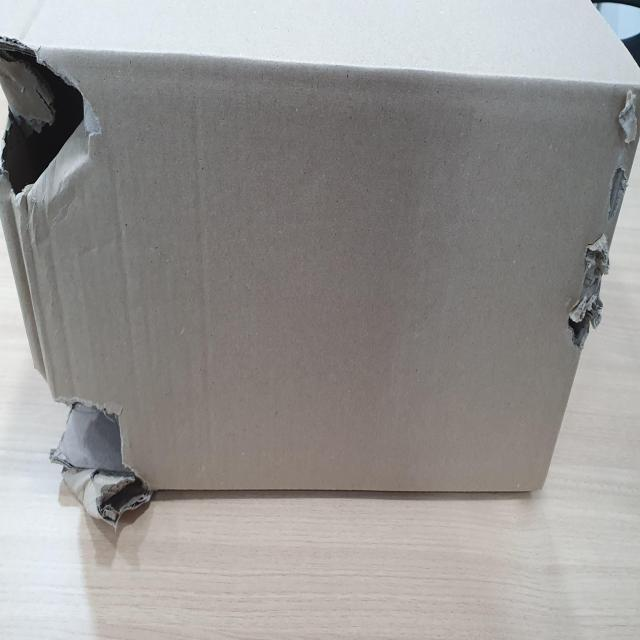damaged: (29, 370, 154, 528), (0, 29, 91, 200), (565, 229, 605, 364)
